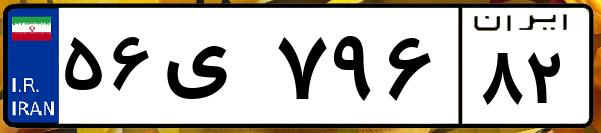2: (525, 38, 570, 115)
5: (57, 26, 110, 100)
6: (385, 28, 445, 110), (110, 28, 158, 98)
7: (270, 28, 330, 110)
8: (475, 38, 525, 113)
9: (330, 28, 385, 110)
ی: (158, 20, 270, 120)
